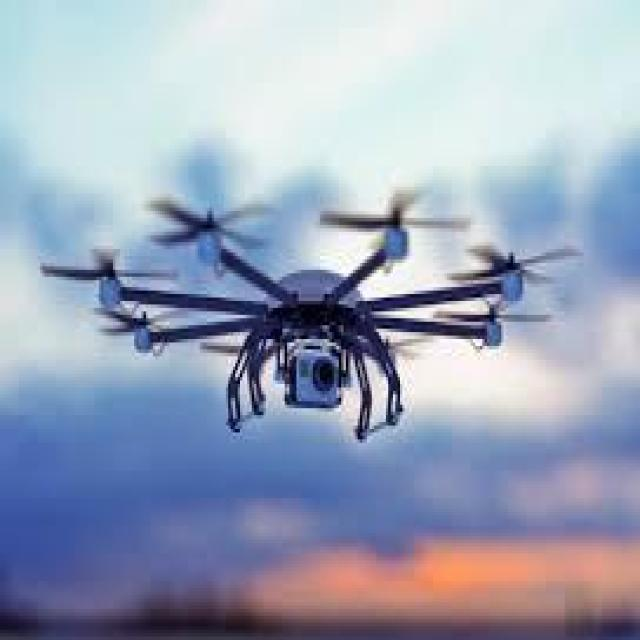drones: (37, 176, 576, 448)
